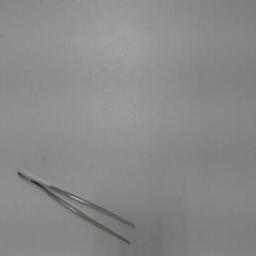Gillies Toothed Dissector: (13, 168, 139, 250)
